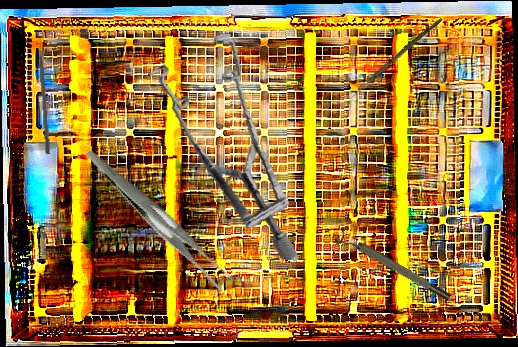Dressing Forceps: (84, 119, 237, 318)
Fixation Ring: (333, 226, 453, 308)
Pusher: (37, 37, 52, 155)
Speculum: (127, 24, 326, 262)
Surgical Spoon: (349, 15, 443, 101)
